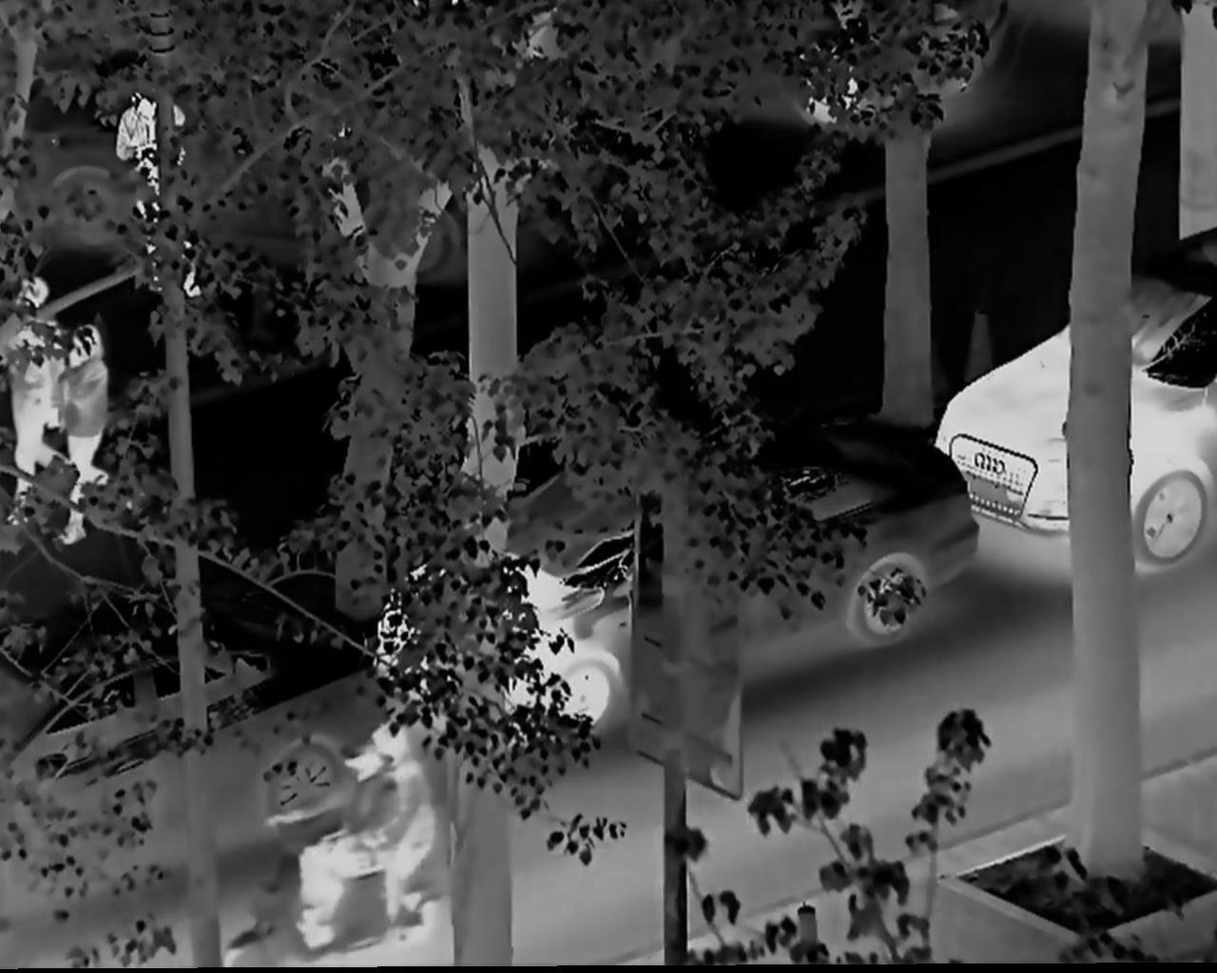person: (290, 727, 436, 930), (117, 96, 203, 306), (53, 323, 119, 542)
